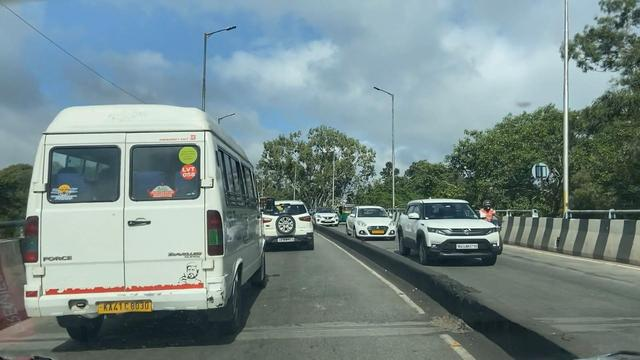HMV: (22, 108, 262, 334)
LMV: (256, 202, 313, 249)
SpeedBump: (246, 315, 466, 342)
